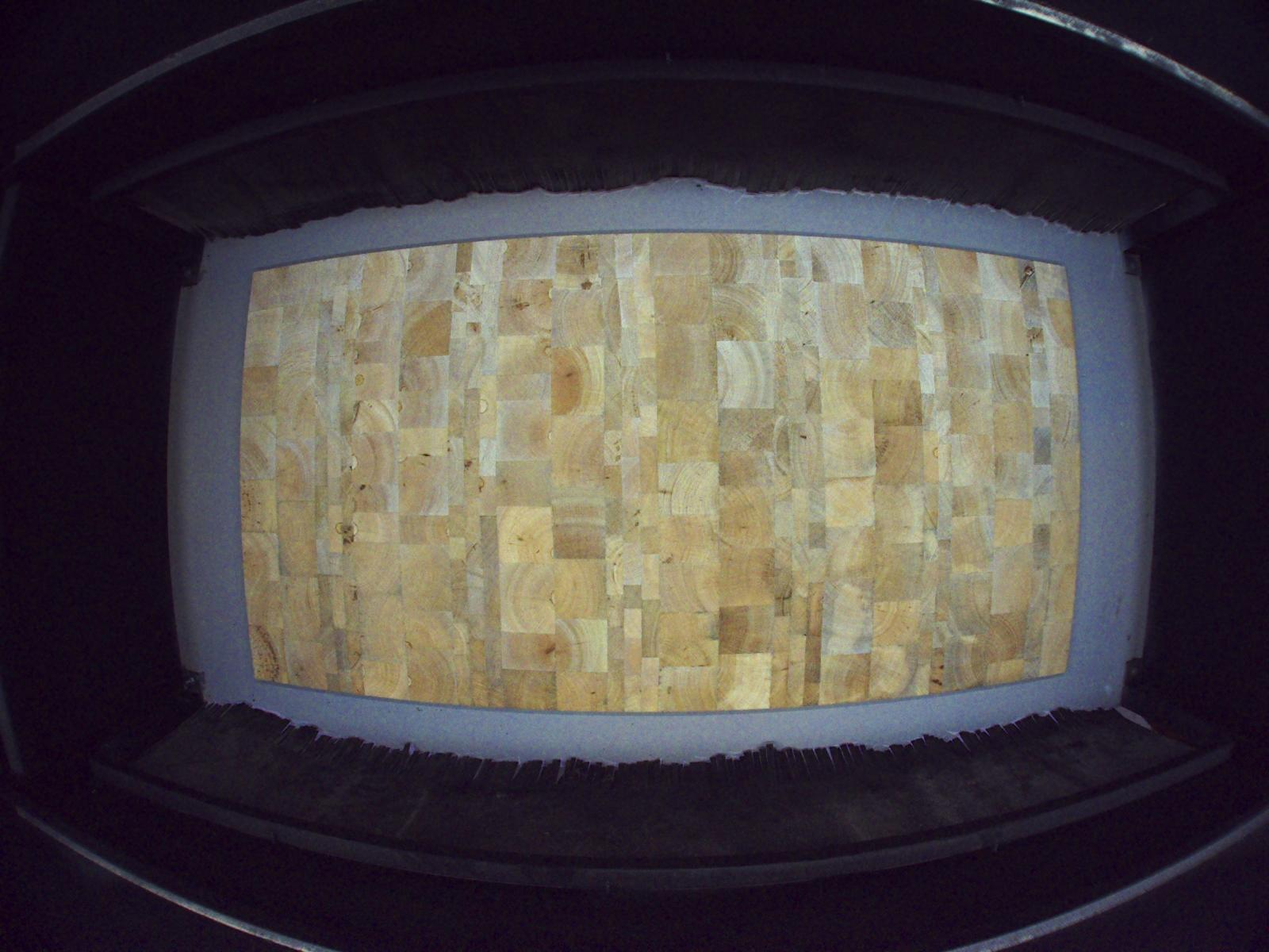nudillo: (1019, 263, 1035, 289)
